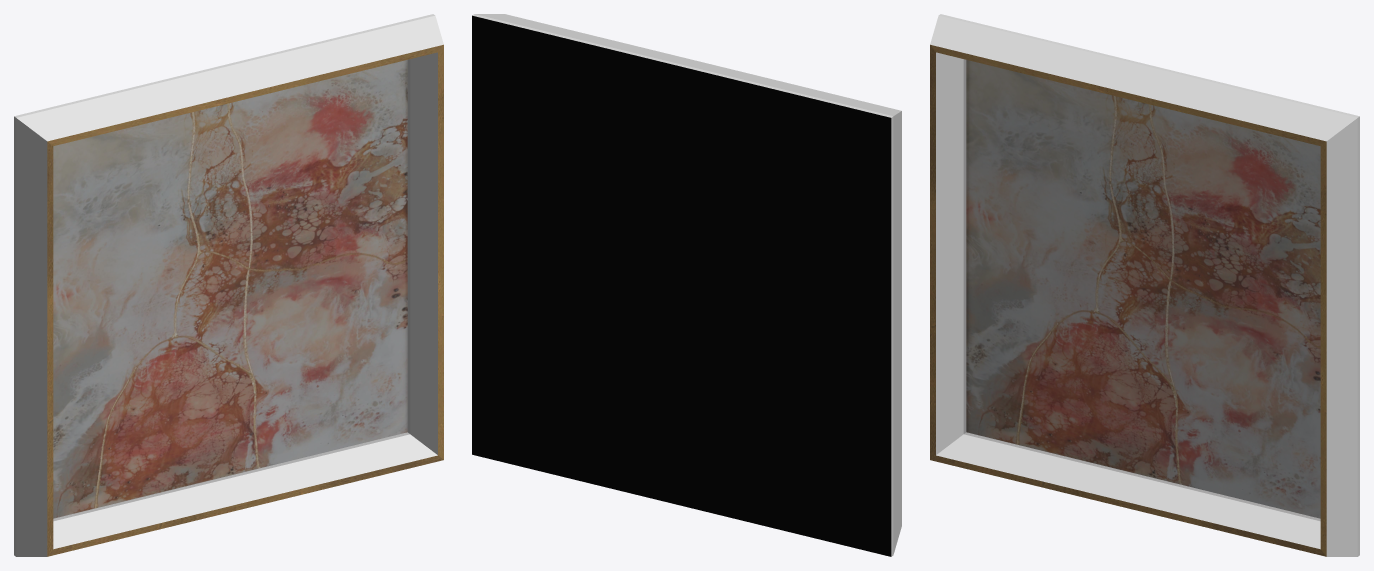
File: obraz2.glb
The picture shows the model from 3 angles, left to right: view 1: azimuth 30°, elevation 25°; view 2: azimuth 150°, elevation 25°; view 3: azimuth 330°, elevation 25°; orthographic projection.
Parts seen in each view (by area): view 1: 4_media\gen\BZO\0\d\a\mvbygrbzabal5t3cuua__r2__.bzo_5, 0_media\gen\BZO\0\d\a\mvbygrbzabal5t3cuua__r2__.bzo_1, 1_media\gen\BZO\0\d\a\mvbygrbzabal5t3cuua__r2__.bzo_2, 3_media\gen\BZO\0\d\a\mvbygrbzabal5t3cuua__r2__.bzo_4; view 2: 2_media\gen\BZO\0\d\a\mvbygrbzabal5t3cuua__r2__.bzo_3, 1_media\gen\BZO\0\d\a\mvbygrbzabal5t3cuua__r2__.bzo_2; view 3: 4_media\gen\BZO\0\d\a\mvbygrbzabal5t3cuua__r2__.bzo_5, 0_media\gen\BZO\0\d\a\mvbygrbzabal5t3cuua__r2__.bzo_1, 1_media\gen\BZO\0\d\a\mvbygrbzabal5t3cuua__r2__.bzo_2, 3_media\gen\BZO\0\d\a\mvbygrbzabal5t3cuua__r2__.bzo_4.
Boxes of the visible parts, x1,y1,x2,y2 form: 4_media\gen\BZO\0\d\a\mvbygrbzabal5t3cuua__r2__.bzo_5: [53, 59, 409, 520]; 0_media\gen\BZO\0\d\a\mvbygrbzabal5t3cuua__r2__.bzo_1: [53, 60, 407, 518]; 1_media\gen\BZO\0\d\a\mvbygrbzabal5t3cuua__r2__.bzo_2: [14, 14, 443, 556]; 3_media\gen\BZO\0\d\a\mvbygrbzabal5t3cuua__r2__.bzo_4: [47, 44, 443, 556]; 2_media\gen\BZO\0\d\a\mvbygrbzabal5t3cuua__r2__.bzo_3: [472, 15, 891, 556]; 1_media\gen\BZO\0\d\a\mvbygrbzabal5t3cuua__r2__.bzo_2: [472, 14, 901, 556]; 4_media\gen\BZO\0\d\a\mvbygrbzabal5t3cuua__r2__.bzo_5: [964, 59, 1320, 520]; 0_media\gen\BZO\0\d\a\mvbygrbzabal5t3cuua__r2__.bzo_1: [966, 60, 1320, 518]; 1_media\gen\BZO\0\d\a\mvbygrbzabal5t3cuua__r2__.bzo_2: [930, 14, 1359, 556]; 3_media\gen\BZO\0\d\a\mvbygrbzabal5t3cuua__r2__.bzo_4: [930, 44, 1326, 556].
Size of the model in its own units: 0.5587 by 0.5592 by 0.0509.
5 materials, 5 textured.
